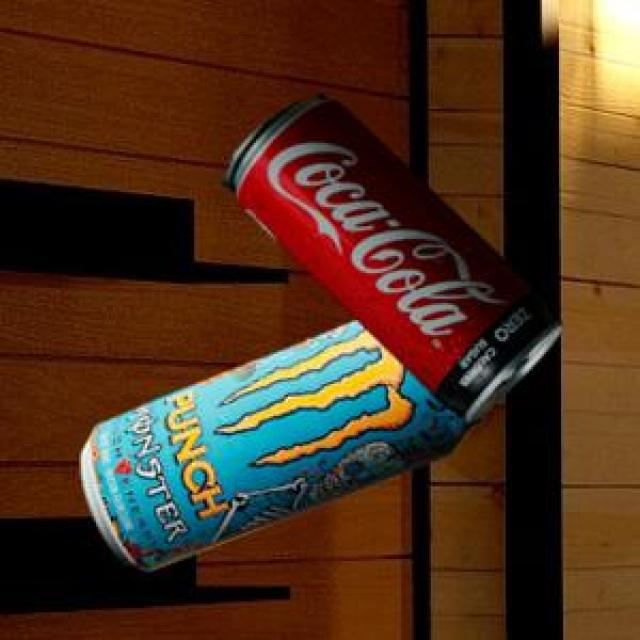logam: (219, 91, 560, 419), (78, 317, 479, 566)
